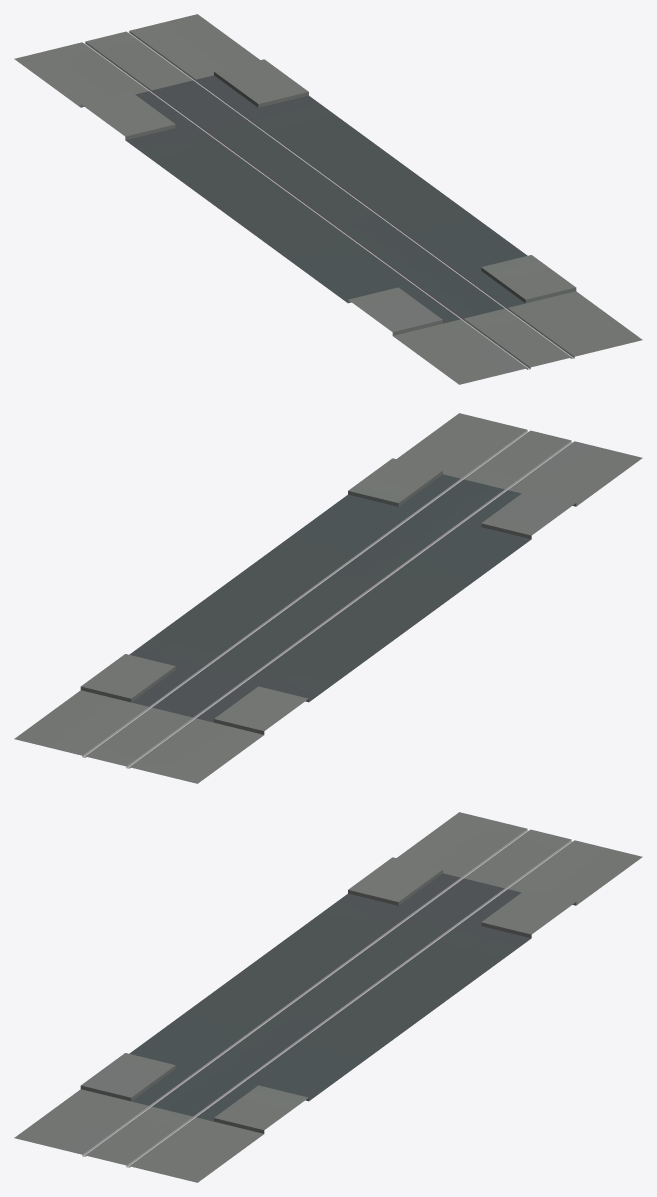
The model's file is city_road_railroad.glb.
3 views of the same model, one above another, from view 1: azimuth 30°, elevation 25°; view 2: azimuth 150°, elevation 25°; view 3: azimuth 330°, elevation 25° (orthographic).
Visible parts, largest first — view 1: Road_Railroad_2_Mat_0; view 2: Road_Railroad_2_Mat_0; view 3: Road_Railroad_2_Mat_0.
Part boxes in pixels (left/top/right/bottom): Road_Railroad_2_Mat_0: left=14, top=14, right=642, bottom=384; Road_Railroad_2_Mat_0: left=14, top=413, right=642, bottom=783; Road_Railroad_2_Mat_0: left=14, top=812, right=642, bottom=1182.
Size of the model in its own units: 2.04 by 0.0586 by 8.57.
Materials: 1 (1 with a texture image).
